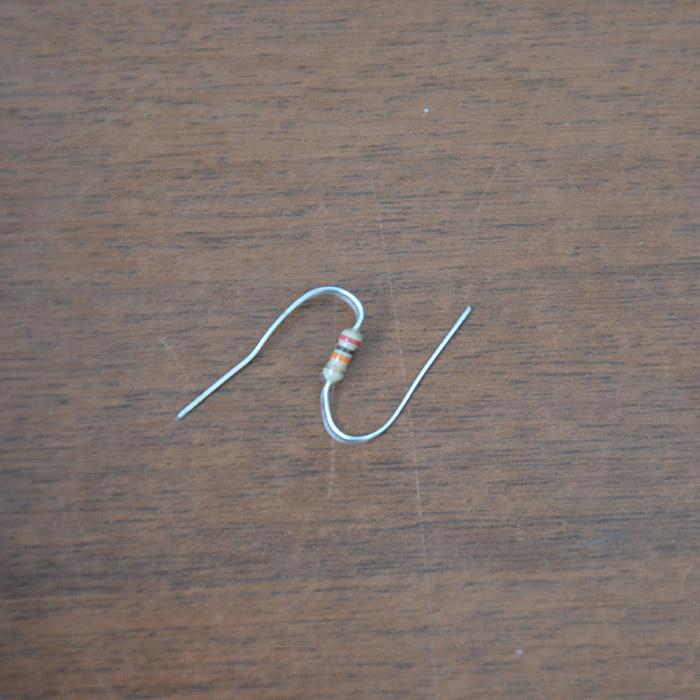resistor: (321, 327, 362, 384)
